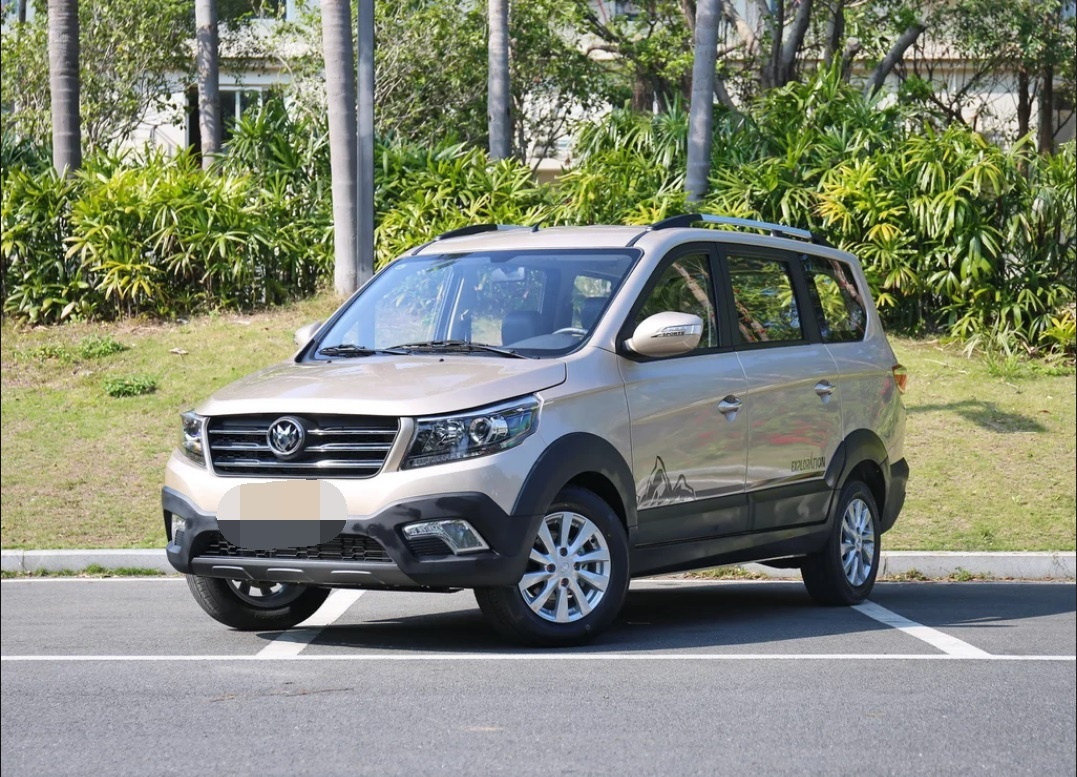SUV: (149, 212, 939, 656)
